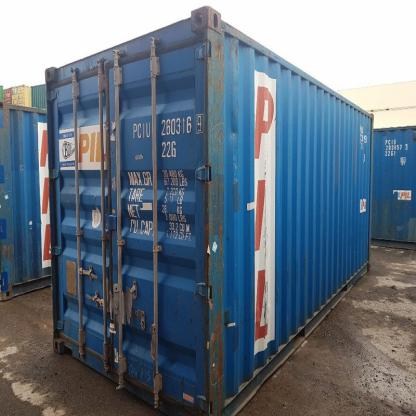Damage: (206, 340, 233, 398), (223, 104, 244, 159), (221, 33, 246, 76)
